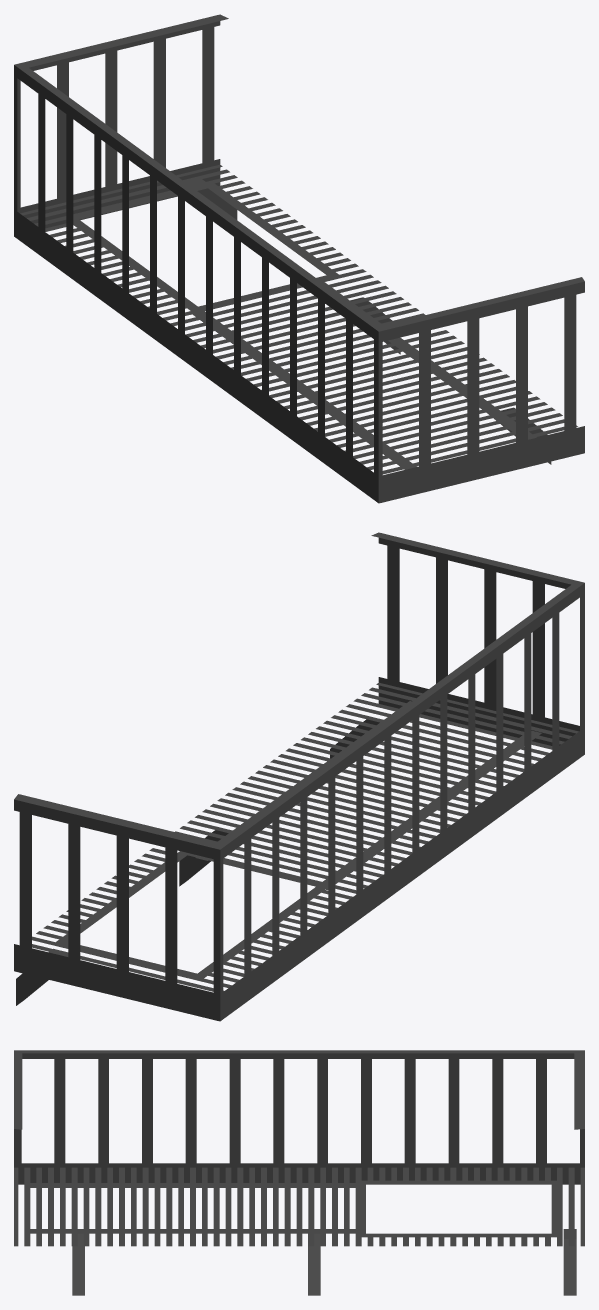
File: FireEscapePlatform.fbx
3 views of the same model, one above another, from view 1: azimuth 30°, elevation 25°; view 2: azimuth 150°, elevation 25°; view 3: azimuth 270°, elevation 25° (orthographic). The views are drawn at different scales.
Parts seen in each view (by area): view 1: Plane.029; view 2: Plane.029; view 3: Plane.029.
Part boxes in pixels (x1,y1,x2,y2): Plane.029: (14, 14, 584, 503); Plane.029: (14, 532, 584, 1021); Plane.029: (14, 1050, 584, 1295).
Size of the model in its own units: 88.44 by 85.31 by 267.
